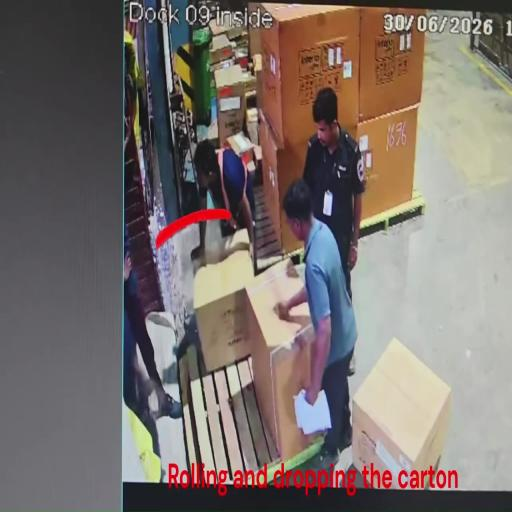carton: (244, 265, 328, 462), (251, 4, 361, 152), (352, 336, 454, 487), (358, 8, 428, 124), (352, 105, 420, 221), (194, 247, 256, 373), (256, 118, 306, 254), (214, 144, 258, 190), (216, 82, 246, 148), (198, 230, 250, 266), (226, 130, 256, 172)
pallet: (176, 339, 330, 488), (254, 200, 426, 275)
person: (274, 179, 358, 473), (302, 88, 366, 378), (122, 259, 183, 454), (190, 138, 258, 275)
